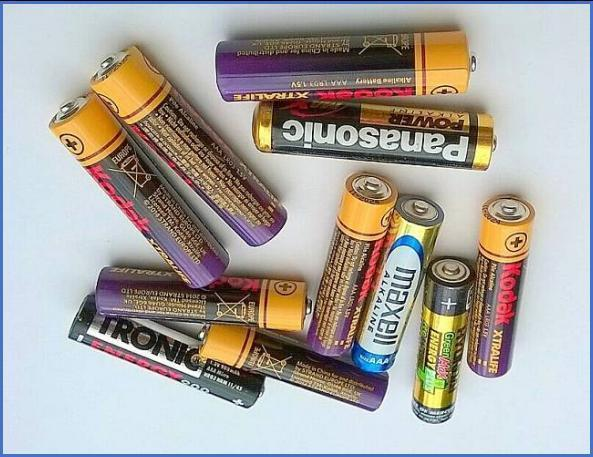AA: (86, 43, 291, 251), (46, 89, 232, 292), (64, 290, 268, 413), (212, 28, 480, 106), (248, 100, 501, 174), (197, 323, 392, 415), (305, 171, 400, 359), (349, 194, 446, 375), (90, 264, 314, 334), (466, 190, 537, 381), (409, 254, 476, 425)
